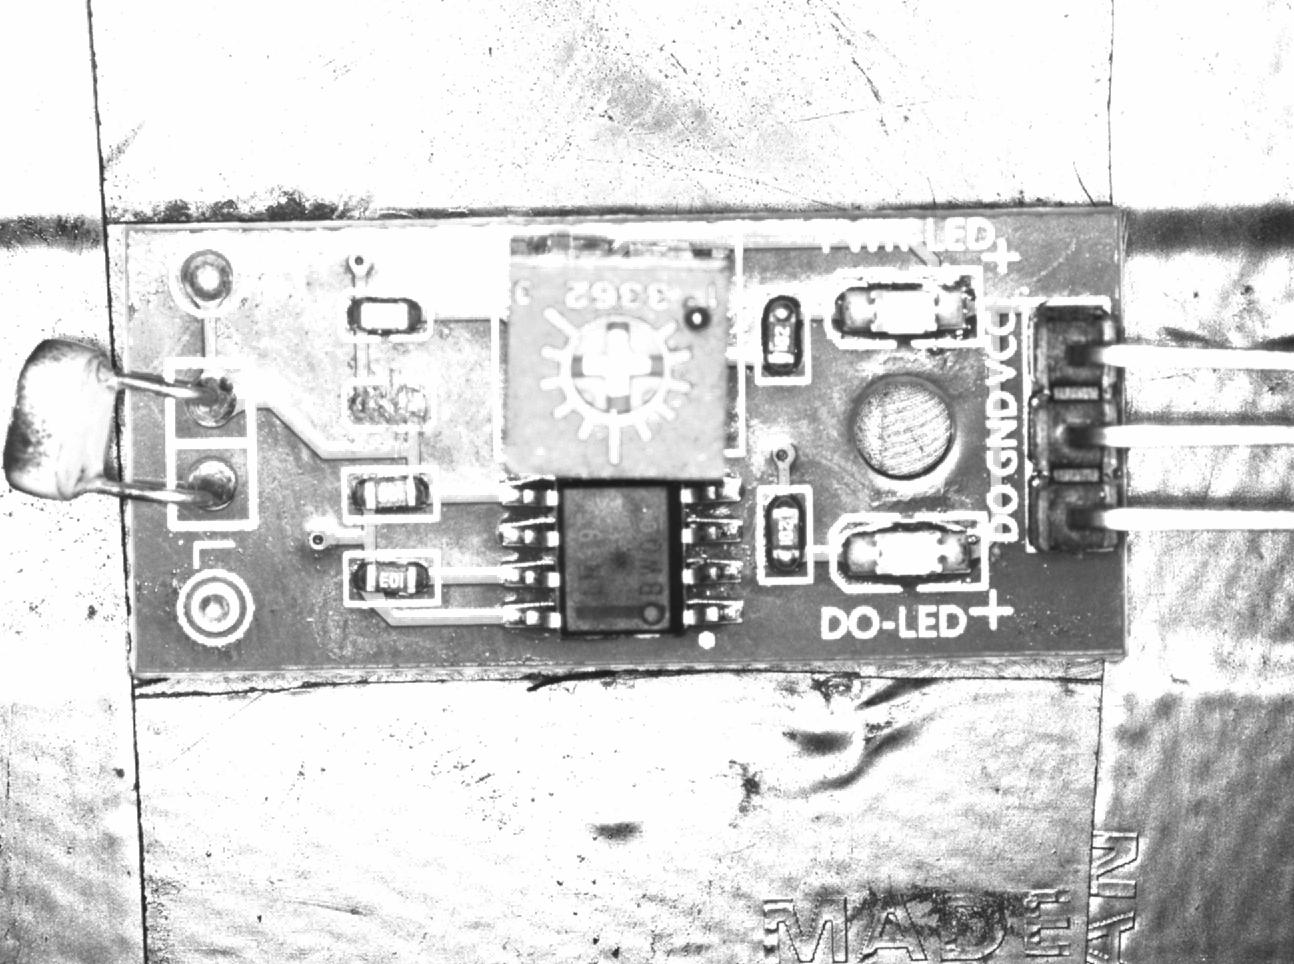miss: (338, 376, 439, 433)
ok: (339, 466, 443, 519), (756, 284, 810, 384), (343, 550, 439, 606), (338, 288, 431, 344), (758, 485, 811, 583)
